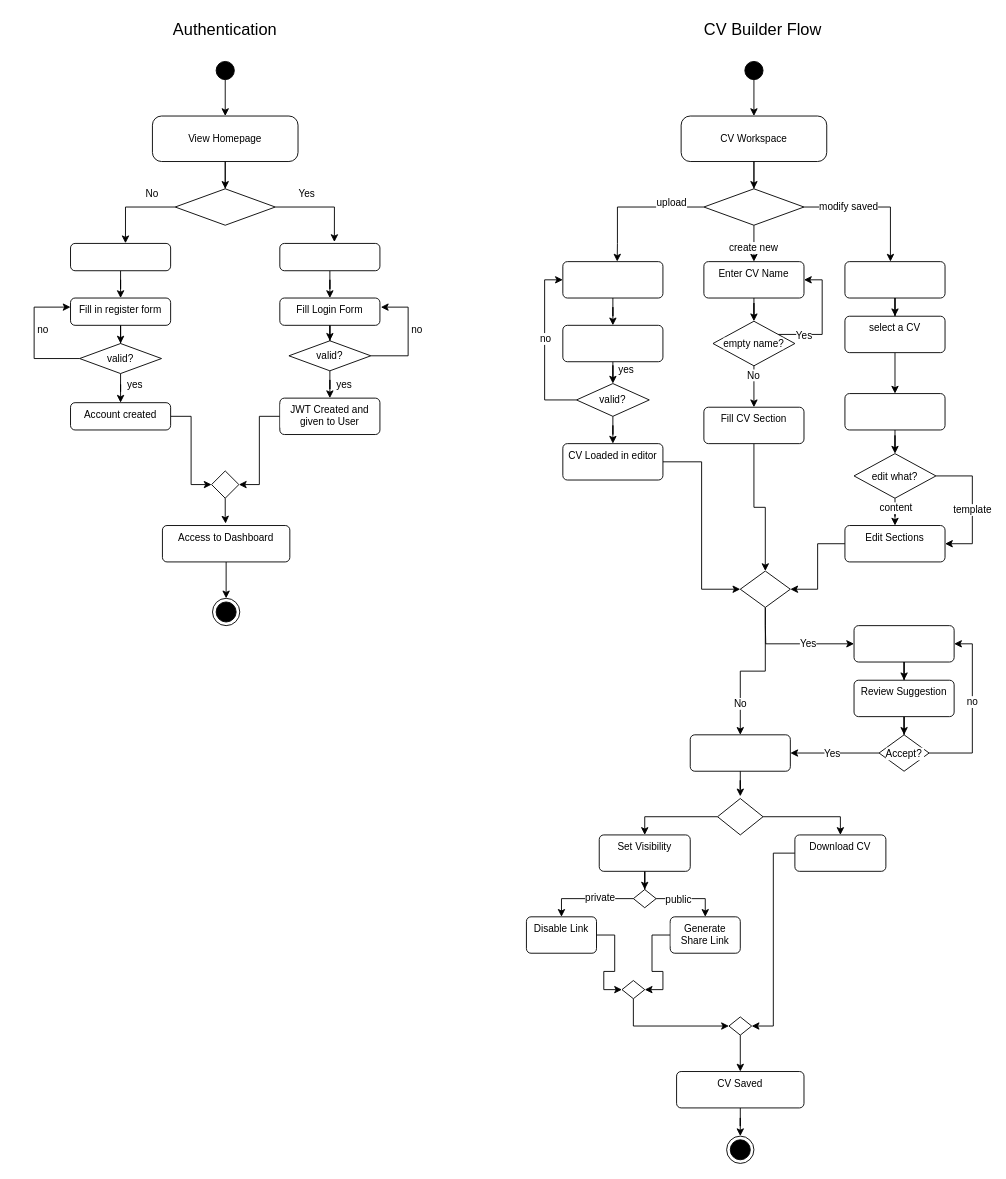
The diagram is 1006 pixels wide and 1179 high, and some of its shapes have lost their labels. Each missing label, with the centre of its shape:
action?: point 753,206
AI rewrites section: point 903,643
CV opens in editor: point 894,411
have account: point 224,206
Log in: point 329,257
option?: point 740,816
Preview CV: point 739,752
see saved CV list: point 894,279
select CV file: point 612,279
Signup: point 120,257
system parse CV: point 612,343
Use AI?: point 764,588
